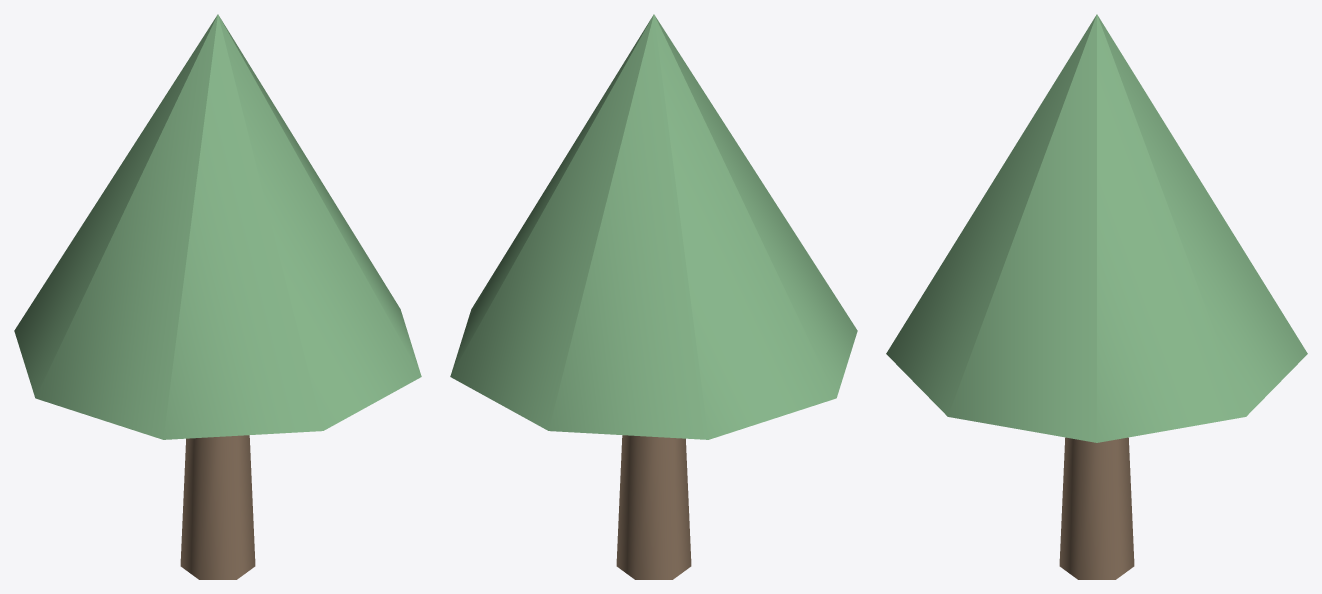
The model's file is foliage-tree.gltf.
3 views of the same model, side by side, from view 1: azimuth 30°, elevation 25°; view 2: azimuth 150°, elevation 25°; view 3: azimuth 270°, elevation 25° (orthographic).
Parts seen in each view (by area): view 1: Canopy, Trunk; view 2: Canopy, Trunk; view 3: Canopy, Trunk.
Part boxes in pixels (x1,y1,x2,y2): Canopy: (14,14,421,439); Trunk: (180,435,255,579); Canopy: (450,14,857,439); Trunk: (616,435,691,579); Canopy: (886,14,1307,442); Trunk: (1059,437,1134,579).
Bounding box in the file's own units: 1.8 × 2.6 × 1.8.
